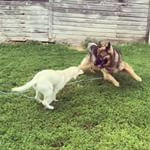puppy: (7, 62, 85, 115), (86, 39, 147, 92)
